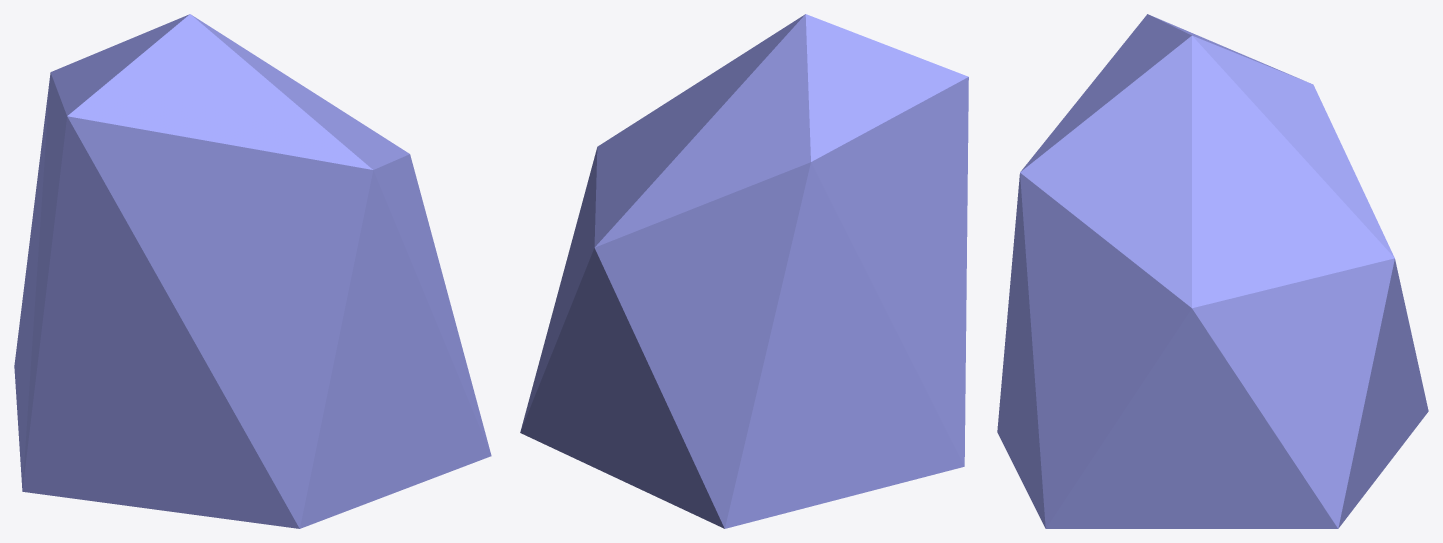
Rendered from st1_rock4.fbx.
The picture shows the model from 3 angles, left to right: view 1: azimuth 30°, elevation 25°; view 2: azimuth 150°, elevation 25°; view 3: azimuth 270°, elevation 25°; orthographic projection. The views are drawn at different scales.
Visible parts, largest first — view 1: Icosphere; view 2: Icosphere; view 3: Icosphere.
Boxes of the visible parts, x1,y1,x2,y2 form: Icosphere: (14, 14, 491, 528); Icosphere: (520, 14, 968, 528); Icosphere: (997, 14, 1428, 528).
Size of the model in its own units: 146 by 157 by 155.
